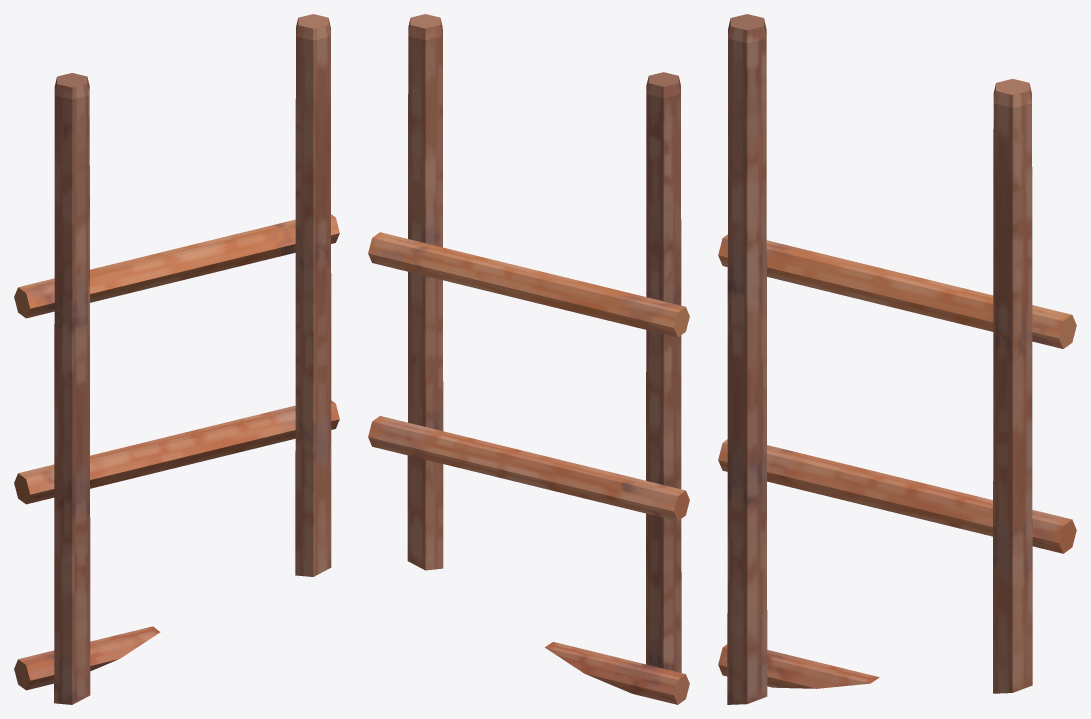
File: ladder_s03.fbx
3 views of the same model, side by side, from view 1: azimuth 30°, elevation 25°; view 2: azimuth 150°, elevation 25°; view 3: azimuth 330°, elevation 25° (orthographic). The views are drawn at different scales.
Parts seen in each view (by area): view 1: ladder_s03; view 2: ladder_s03; view 3: ladder_s03.
Part boxes in pixels (box(x1,y1,x2,y2)): ladder_s03: box(14, 14, 339, 704); ladder_s03: box(368, 14, 689, 704); ladder_s03: box(718, 14, 1076, 704).
Size of the model in its own units: 2.44 by 4.66 by 0.4494.
